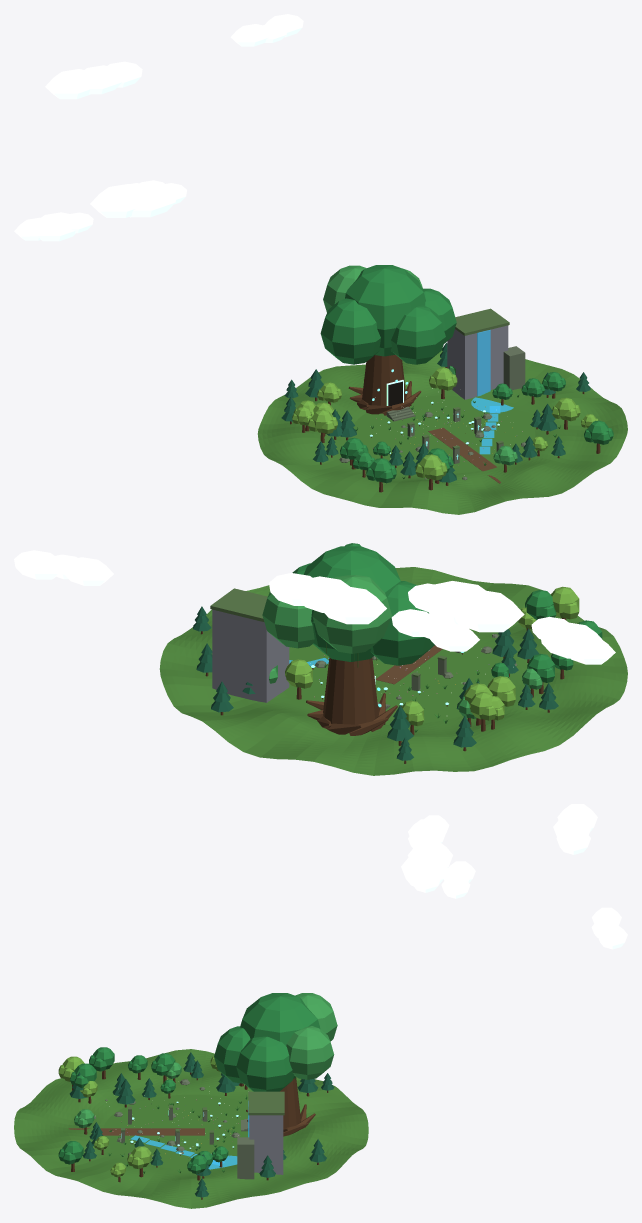
Rendered from bosque-sagrado.glb.
3 views of the same model, one above another, from view 1: azimuth 30°, elevation 25°; view 2: azimuth 150°, elevation 25°; view 3: azimuth 270°, elevation 25° (orthographic). The views are drawn at different scales.
Parts seen in each view (by area): view 1: Terreno, Gigante, Arvores, Nuvens, Cascata; view 2: Terreno, Nuvens, Gigante, Arvores, Cascata, Menires; view 3: Terreno, Gigante, Arvores, Nuvens, Cascata.
Part boxes in pixels (<box>): Terreno: <box>257,350,627,514</box>; Gigante: <box>320,265,456,415</box>; Arvores: <box>281,342,613,492</box>; Nuvens: <box>14,14,303,241</box>; Cascata: <box>447,308,525,454</box>; Terreno: <box>159,567,627,775</box>; Nuvens: <box>14,550,615,664</box>; Gigante: <box>262,546,434,735</box>; Arvores: <box>193,543,602,763</box>; Cascata: <box>210,588,329,702</box>; Menires: <box>411,651,460,690</box>; Terreno: <box>14,1049,368,1208</box>; Gigante: <box>214,993,337,1136</box>; Arvores: <box>58,1047,334,1199</box>; Nuvens: <box>401,804,627,949</box>; Cascata: <box>130,1091,284,1179</box>.
Size of the model in its own units: 74.43 by 40.48 by 90.
